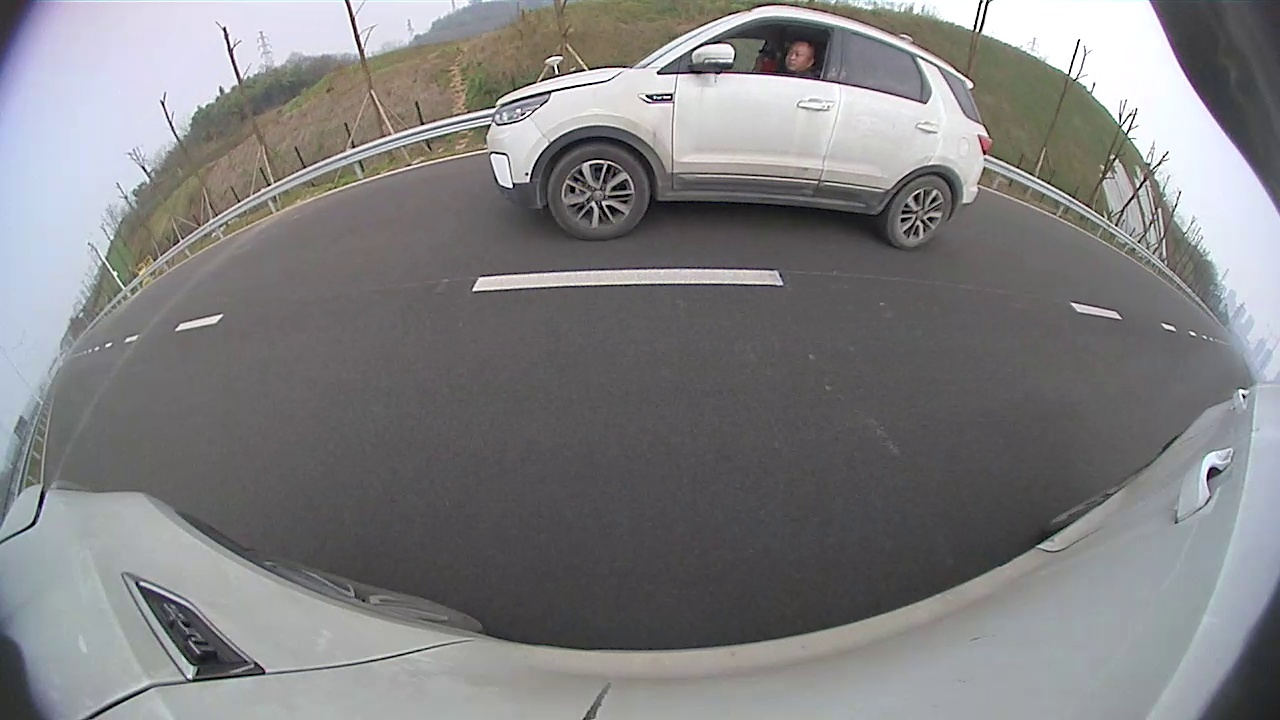car: (487, 6, 992, 250)
front: (545, 143, 651, 239)
rear: (887, 173, 955, 253)
